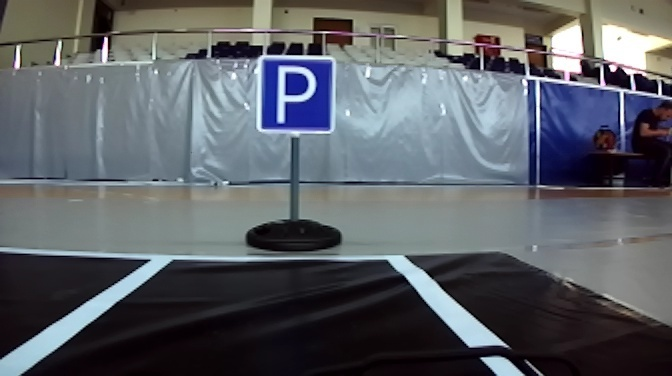park: (256, 51, 336, 134)
